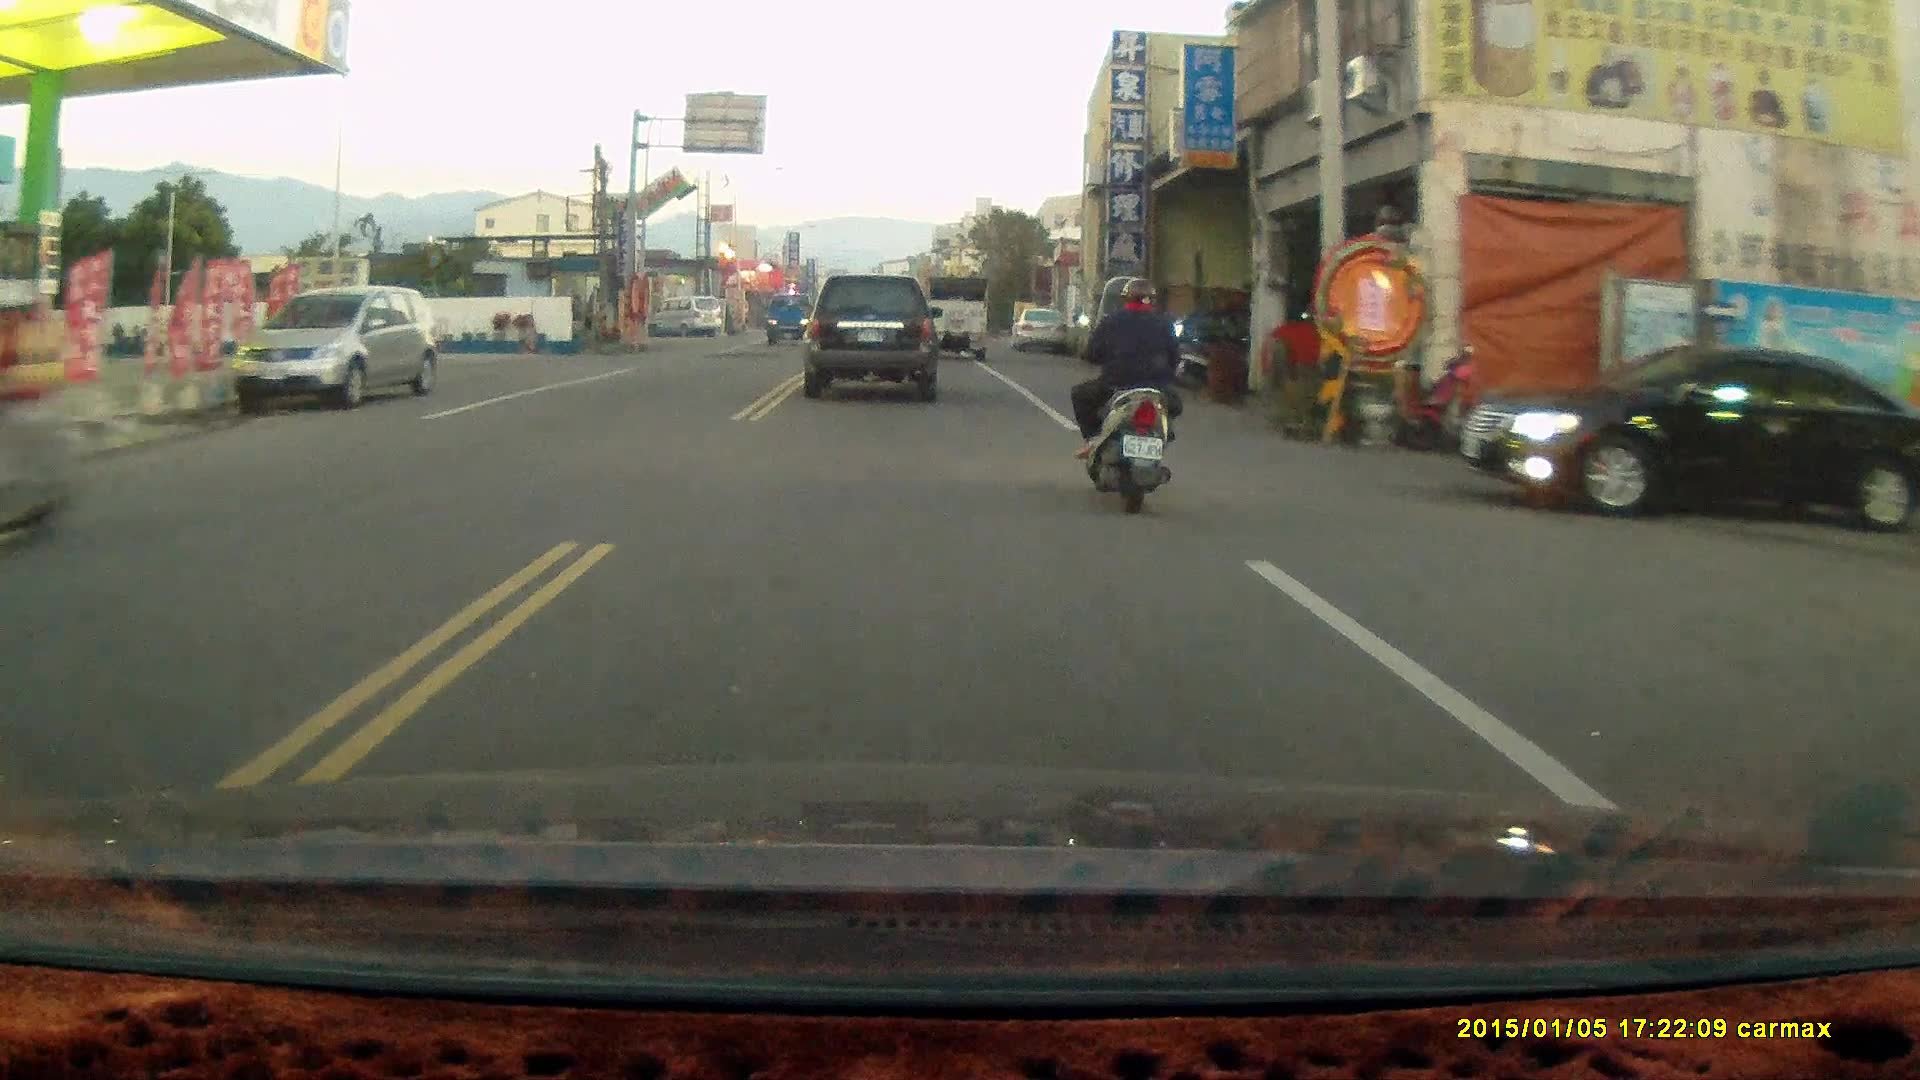rider: (1071, 270, 1182, 510), (0, 271, 92, 537)
vehicle: (1469, 338, 1902, 520), (227, 282, 439, 412), (804, 267, 949, 400), (924, 269, 991, 358), (647, 294, 724, 336), (1010, 307, 1070, 350)
